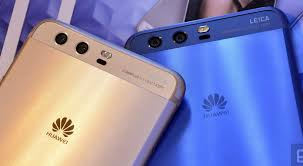huawei: (122, 5, 303, 166), (1, 17, 193, 162)
